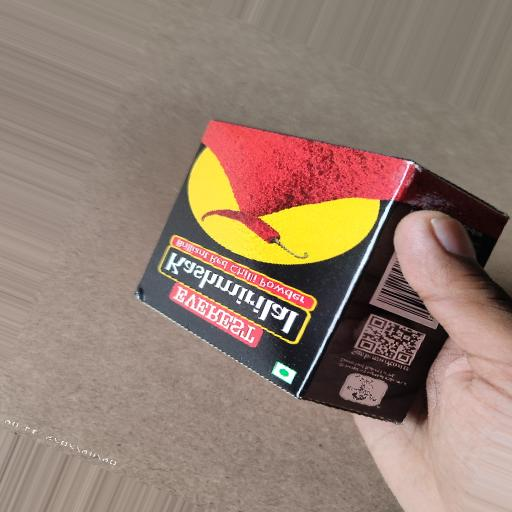Everest Kashmirilal: (96, 76, 512, 447)
